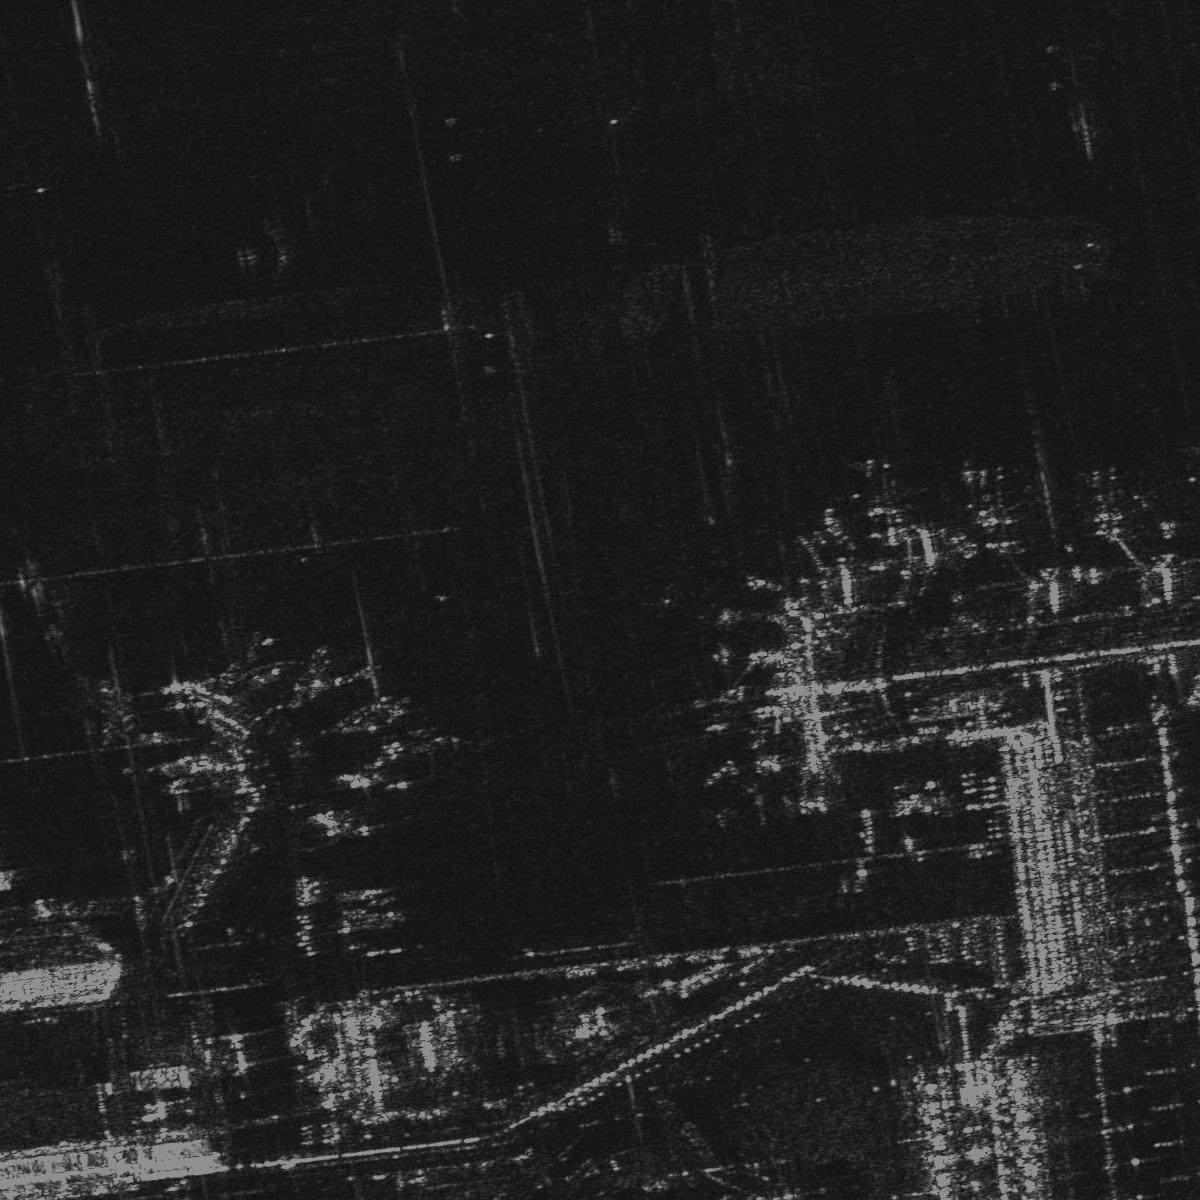A220: (842, 458, 927, 540), (1068, 462, 1149, 538), (955, 465, 1024, 537)
Boeing737: (711, 775, 770, 829)
